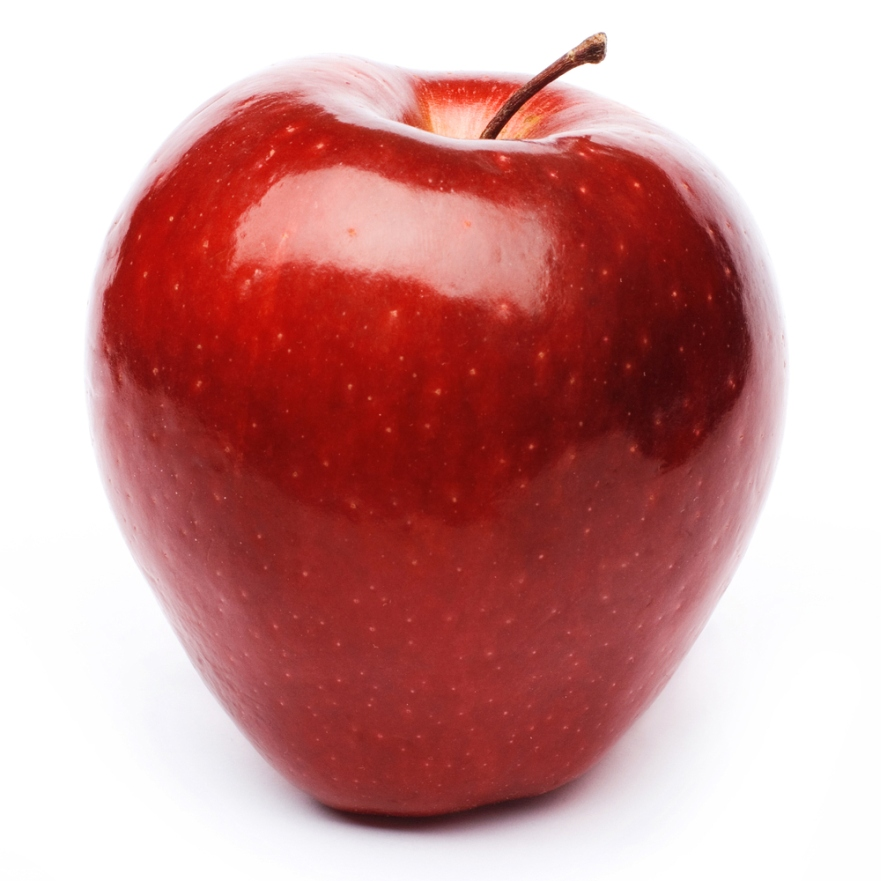apple: (87, 25, 788, 833)
